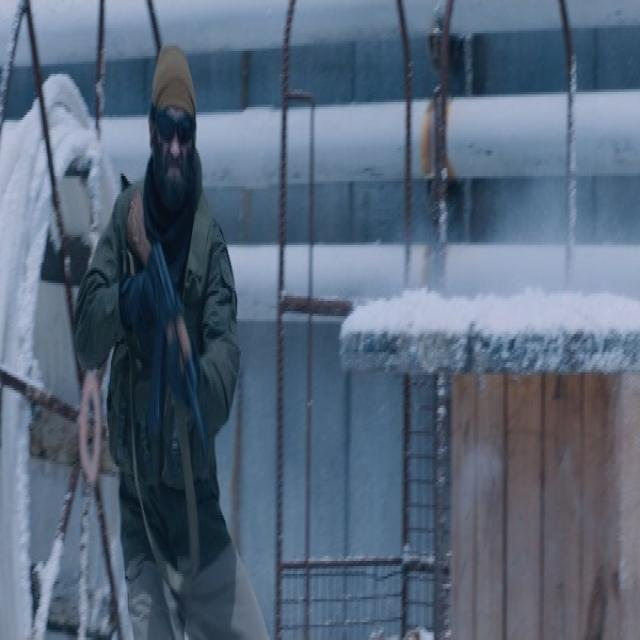rifle: (126, 181, 210, 475)
